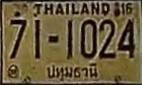0: (80, 19, 96, 58)
1: (67, 20, 72, 58), (34, 20, 39, 58)
2: (99, 19, 114, 58)
4: (117, 19, 134, 58)
7: (10, 19, 26, 58)
PTE: (45, 62, 101, 82)
